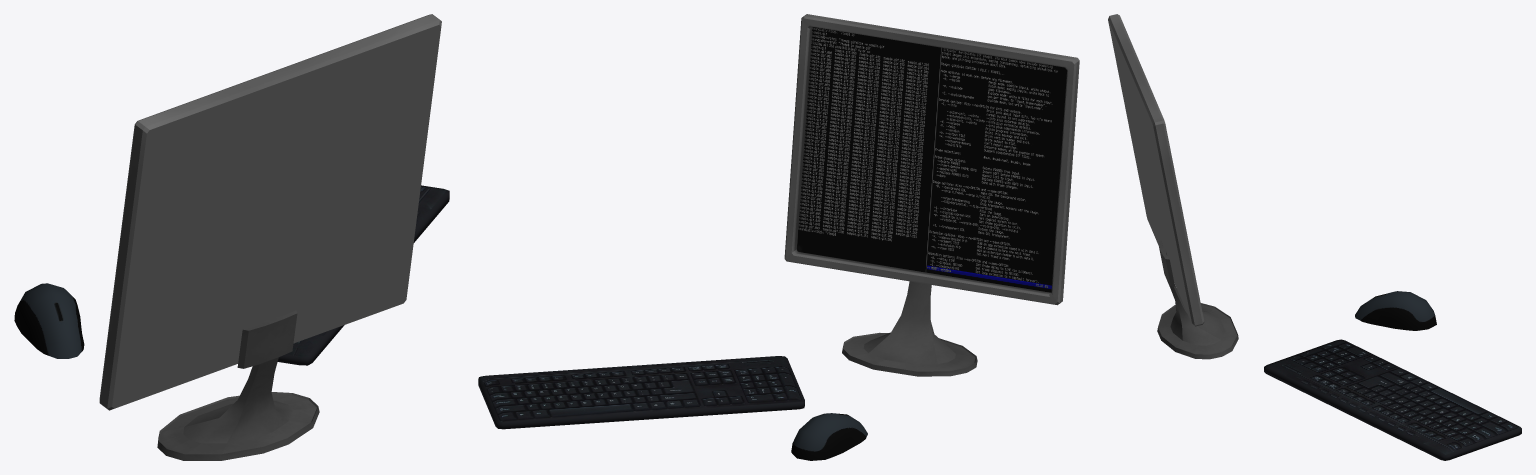
File: Computer.FBX
The picture shows the model from 3 angles, left to right: view 1: azimuth 30°, elevation 25°; view 2: azimuth 150°, elevation 25°; view 3: azimuth 270°, elevation 25°; orthographic projection. The views are drawn at different scales.
Parts seen in each view (by area): view 1: computer; view 2: computer; view 3: computer.
Boxes of the visible parts, x1,y1,x2,y2 form: computer: (14, 14, 449, 460); computer: (478, 14, 1079, 460); computer: (1108, 14, 1521, 460).
Bounding box in the file's own units: 203 × 136 × 190.
1 material, 1 textured.
